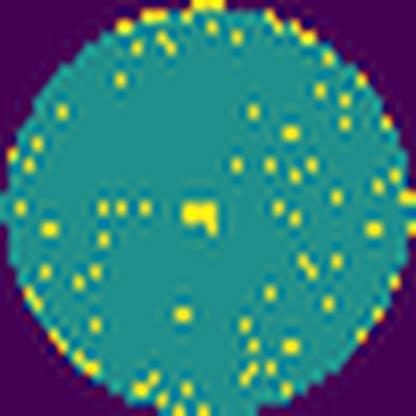Center: (181, 201, 220, 240)
